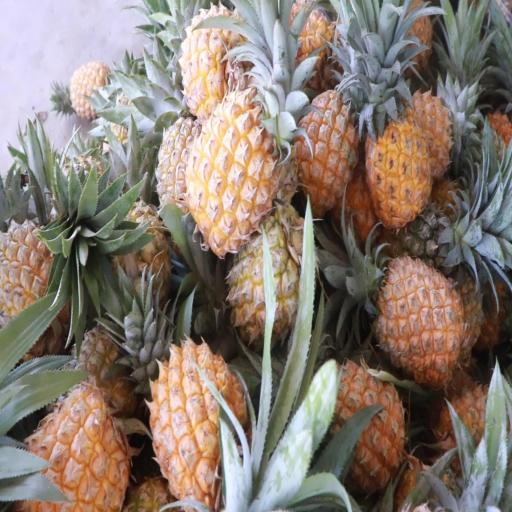------------------------------: (226, 220, 309, 350)
Pineapple - v8 v1: (155, 338, 248, 499), (19, 385, 130, 512), (193, 98, 279, 248), (322, 367, 403, 492), (374, 259, 462, 374), (291, 88, 361, 211), (367, 116, 432, 224), (184, 8, 250, 113)
